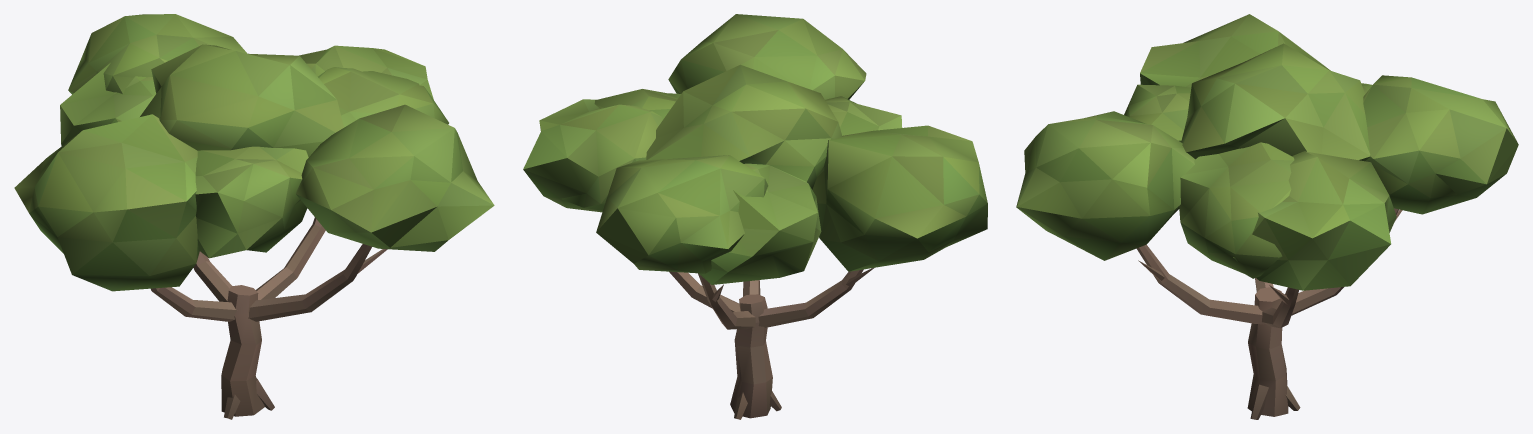
Rendered from ghaf-tree.glb.
The picture shows the model from 3 angles, left to right: view 1: azimuth 30°, elevation 25°; view 2: azimuth 150°, elevation 25°; view 3: azimuth 270°, elevation 25°; orthographic projection. The views are drawn at different scales.
Visible parts, largest first — view 1: ghaf-tree; view 2: ghaf-tree; view 3: ghaf-tree.
Boxes of the visible parts, <box> form: ghaf-tree: <box>14,14,494,419</box>; ghaf-tree: <box>523,14,987,419</box>; ghaf-tree: <box>1016,14,1518,419</box>.
Bounding box in the file's own units: 3.8 × 2.99 × 3.95.
